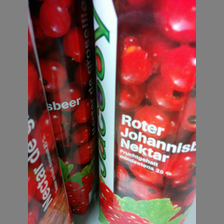juice: (92, 2, 194, 224)
